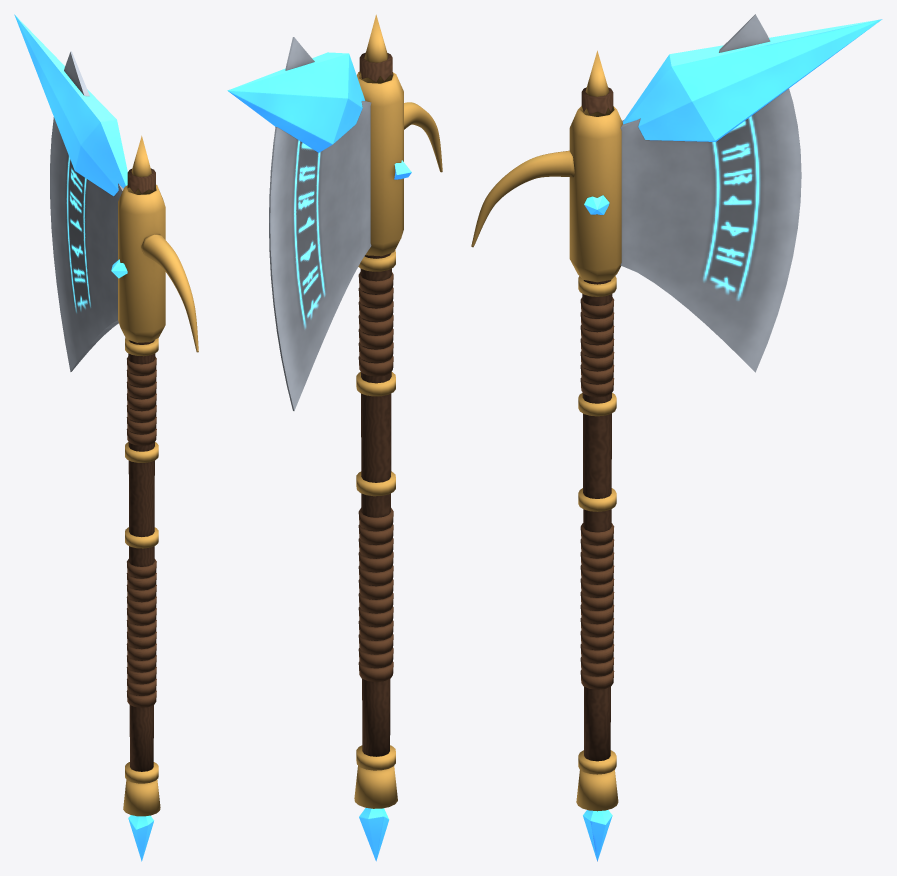
Rendered from rune_axe.glb.
3 renders of one model, left to right at view 1: azimuth 30°, elevation 25°; view 2: azimuth 150°, elevation 25°; view 3: azimuth 270°, elevation 25°, orthographic. The views are drawn at different scales.
Parts seen in each view (by area): view 1: rune_axe; view 2: rune_axe; view 3: rune_axe.
Boxes of the visible parts, left/top/right/bottom form: rune_axe: left=14, top=14, right=198, bottom=861; rune_axe: left=227, top=14, right=442, bottom=861; rune_axe: left=471, top=14, right=882, bottom=861.
Bounding box in the file's own units: 0.12 × 1.42 × 0.6249.
1 material, 1 textured.
